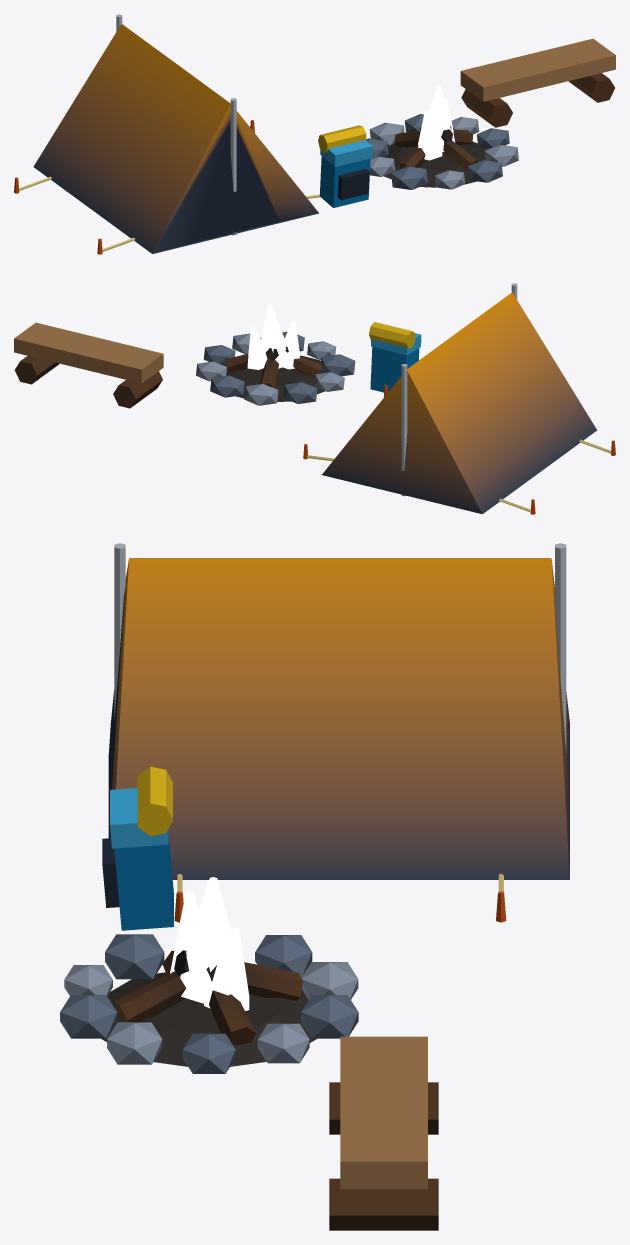
File: basecamp_set.glb
The picture shows the model from 3 angles, top to bottom: view 1: azimuth 30°, elevation 25°; view 2: azimuth 150°, elevation 25°; view 3: azimuth 270°, elevation 25°; orthographic projection. The views are drawn at different scales.
Visible parts, largest first — view 1: ExpeditionTent, CampfirePit, LogBench, HikerBackpack, CampfireFlame; view 2: ExpeditionTent, CampfirePit, LogBench, HikerBackpack, CampfireFlame; view 3: ExpeditionTent, CampfirePit, LogBench, HikerBackpack, CampfireFlame.
Part boxes in pixels (left/top/right/bottom): ExpeditionTent: left=14, top=14, right=320, bottom=254; CampfirePit: left=366, top=114, right=518, bottom=189; LogBench: left=460, top=38, right=615, bottom=127; HikerBackpack: left=318, top=125, right=372, bottom=207; CampfireFlame: left=418, top=85, right=455, bottom=160; ExpeditionTent: left=303, top=283, right=615, bottom=514; CampfirePit: left=196, top=331, right=355, bottom=405; LogBench: left=14, top=322, right=163, bottom=408; HikerBackpack: left=369, top=322, right=421, bottom=392; CampfireFlame: left=247, top=305, right=300, bottom=369; ExpeditionTent: left=108, top=543, right=569, bottom=922; CampfirePit: left=60, top=934, right=358, bottom=1073; LogBench: left=329, top=1036, right=438, bottom=1230; HikerBackpack: left=102, top=766, right=173, bottom=930; CampfireFlame: left=170, top=877, right=249, bottom=1010.
Bounding box in the file's own units: 5.7 × 1.41 × 2.33.
